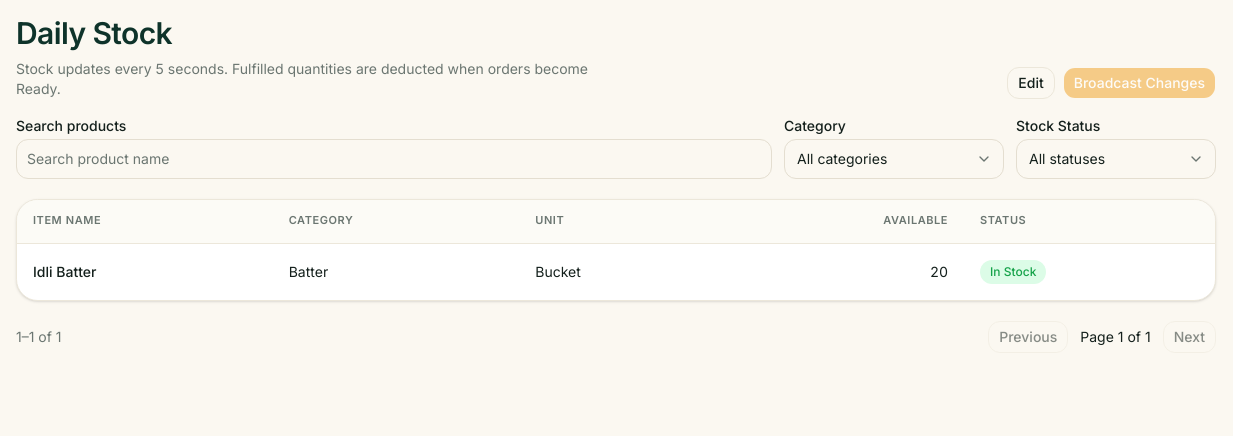
Test: common Edit unlocks quantities; Save stages and Broadcast persists with conflict checks
Expected: the text "Idli Batter" is shown, [33, 263, 96, 280]
Click the button "Edit" at [1031, 82], box [1007, 66, 1055, 98]
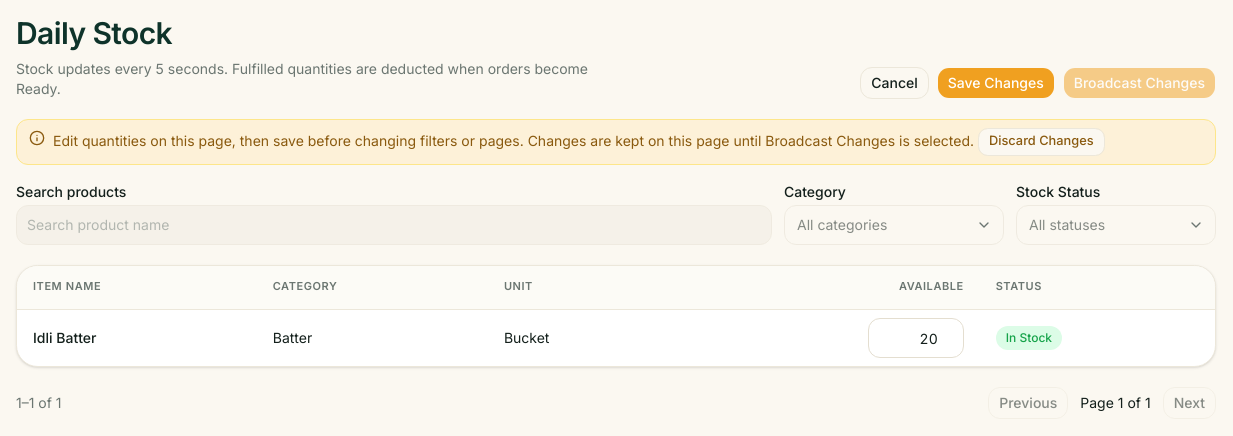
Replace the text in the number field named "Available stock for Idli Batter" with "15" at [916, 338], box [868, 318, 964, 358]
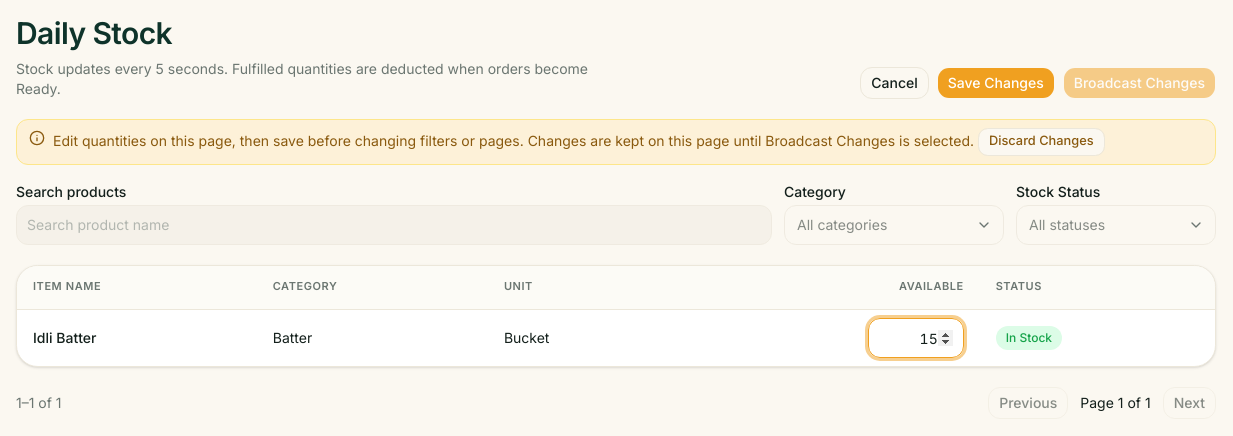
Expected: the button "Broadcast Changes" is disabled, [1063, 66, 1216, 98]
Click the button "Save Changes" at [996, 82], box [937, 66, 1055, 98]
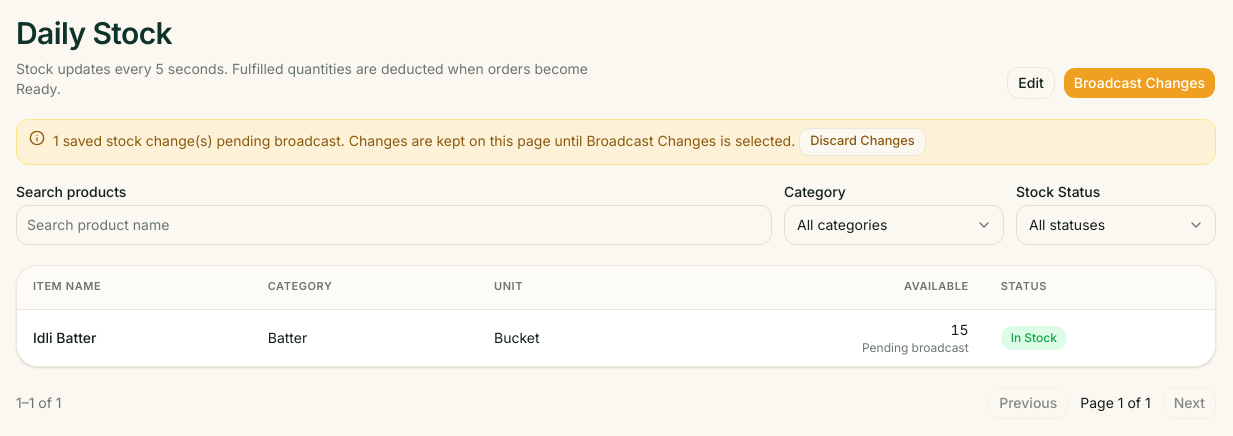
Expected: the text "Pending broadcast" is shown, [862, 340, 969, 355]
Click the button "Broadcast Changes" at [1139, 82], box [1063, 66, 1216, 98]
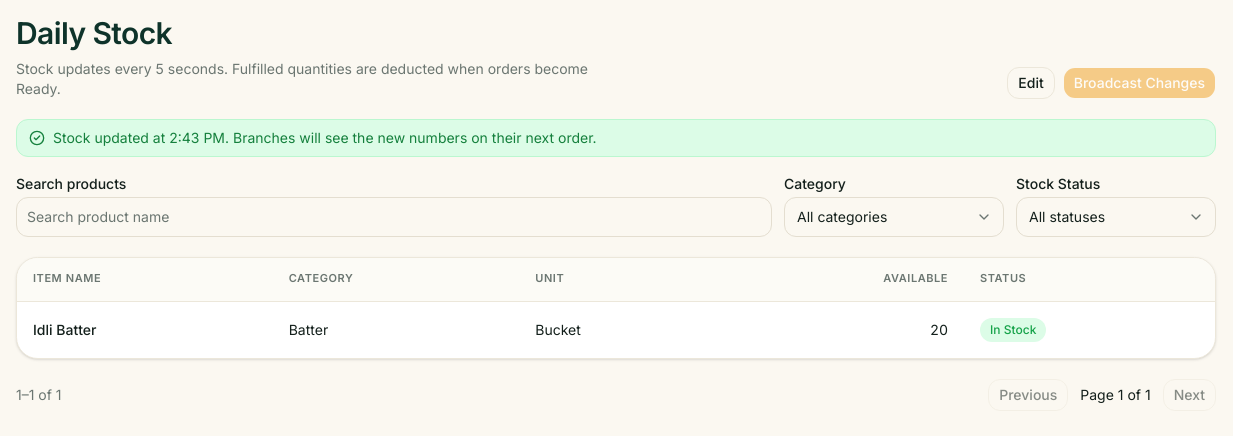
Expected: the text "pending broadcast" is gone
